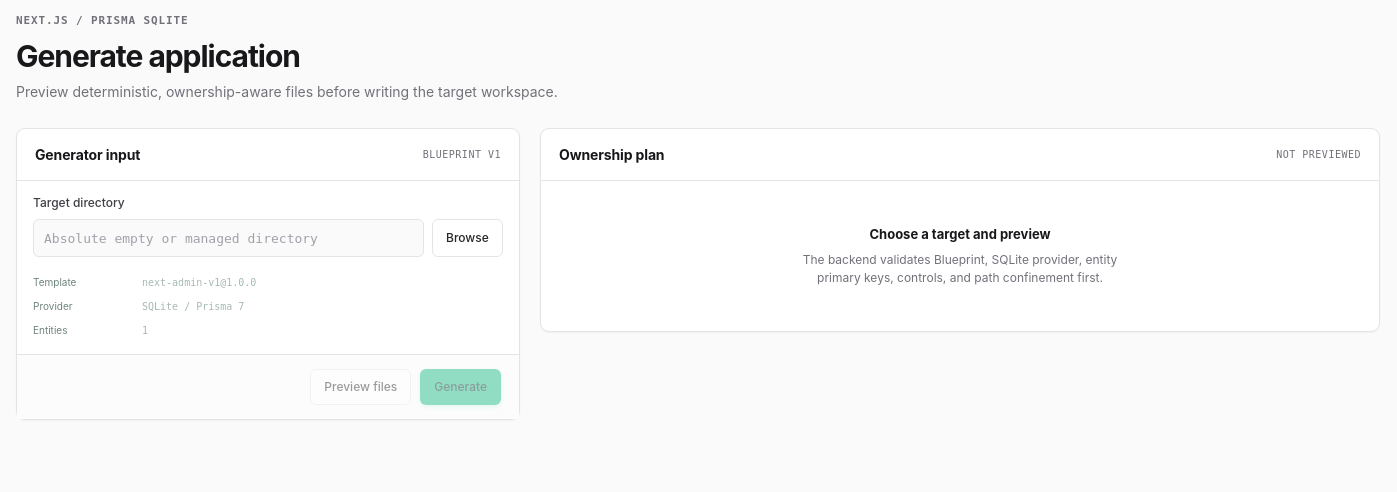
Test: Phase 5 generation panel › previews ownership and generates only after a valid preview
Check: the button "Generate" is disabled, box [420,369,501,405]
Type "C:\\generated" into the field labelled "Target directory" at (229, 238), box [33,219,424,257]
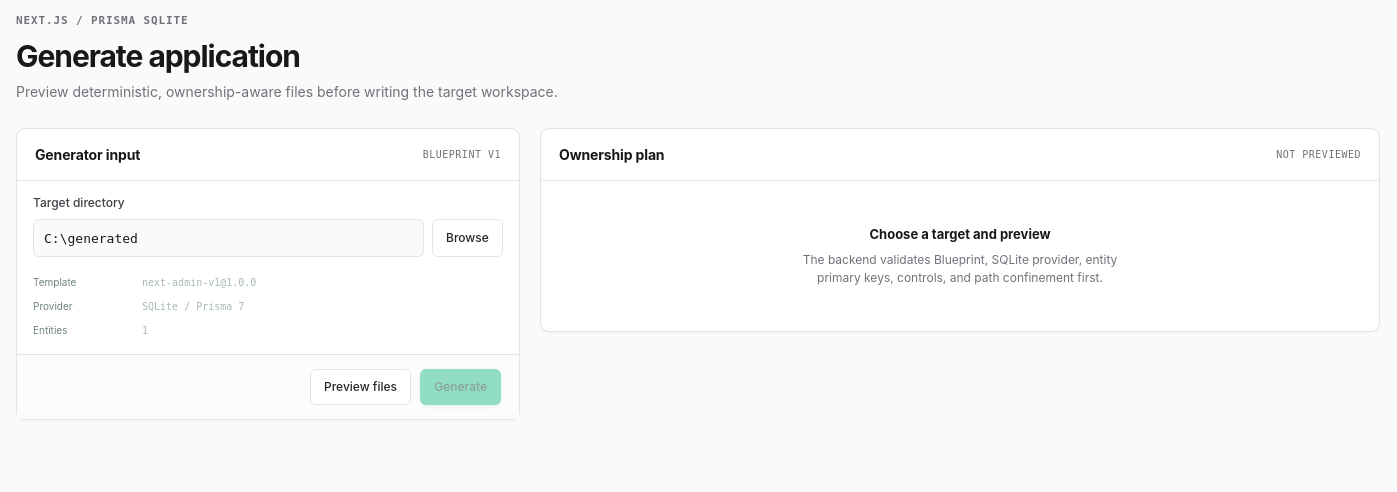
Click the button "Preview files" at (361, 387), box [310,369,411,405]
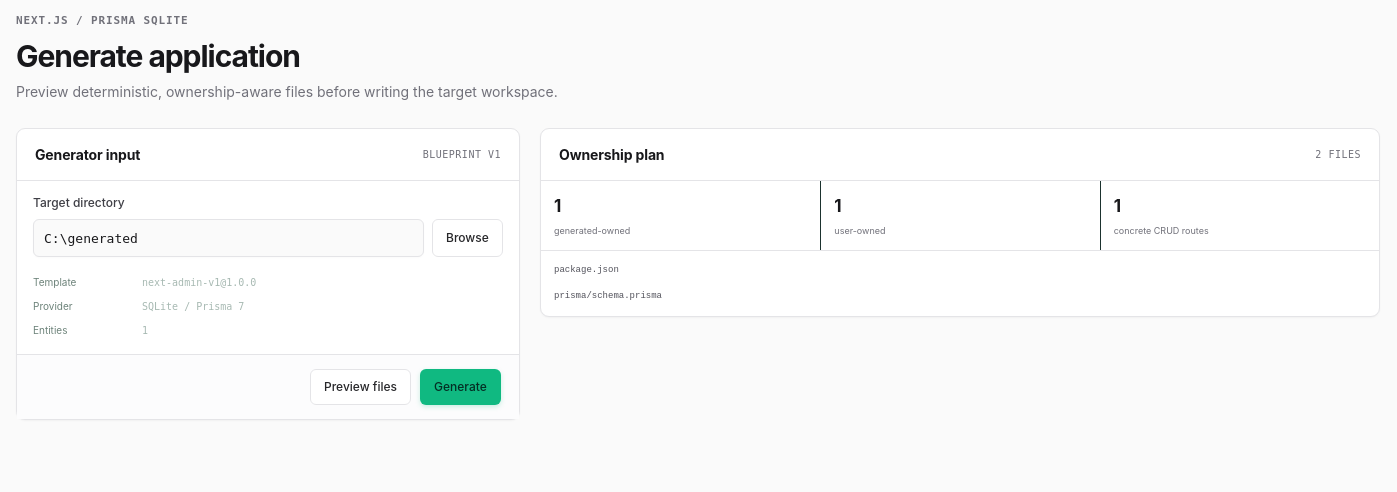
Check: the text "prisma/schema.prisma" is shown, box [554,291,662,301]
Check: the button "Generate" is enabled
Click the button "Generate" at (461, 387), box [420,369,501,405]
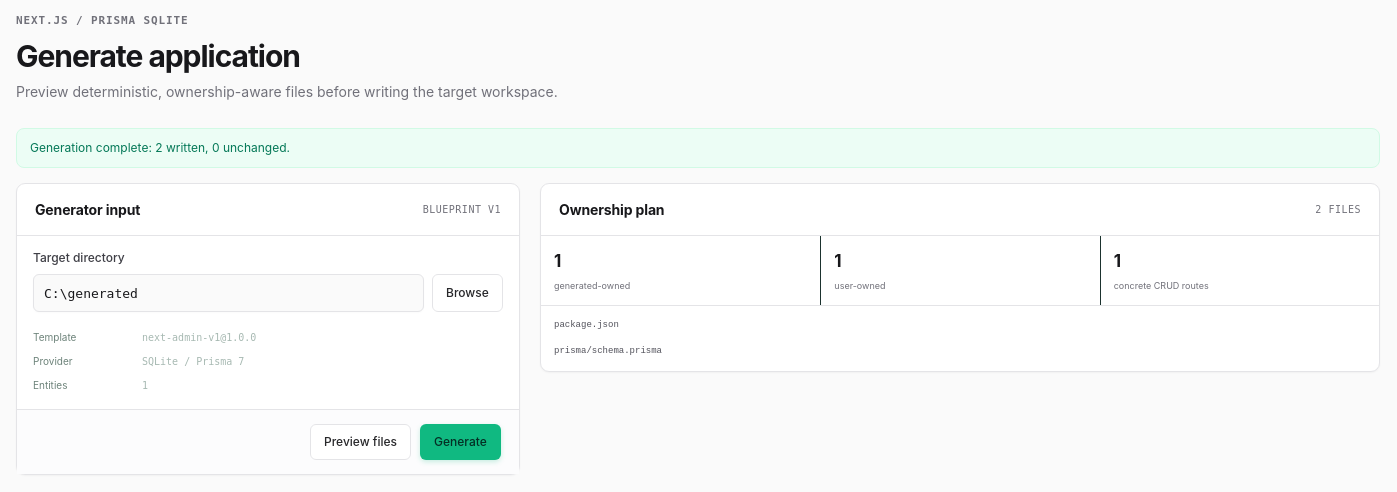
Check: the text "Generation complete: 2 written, 0 unchanged." is shown, box [16,128,1380,168]
